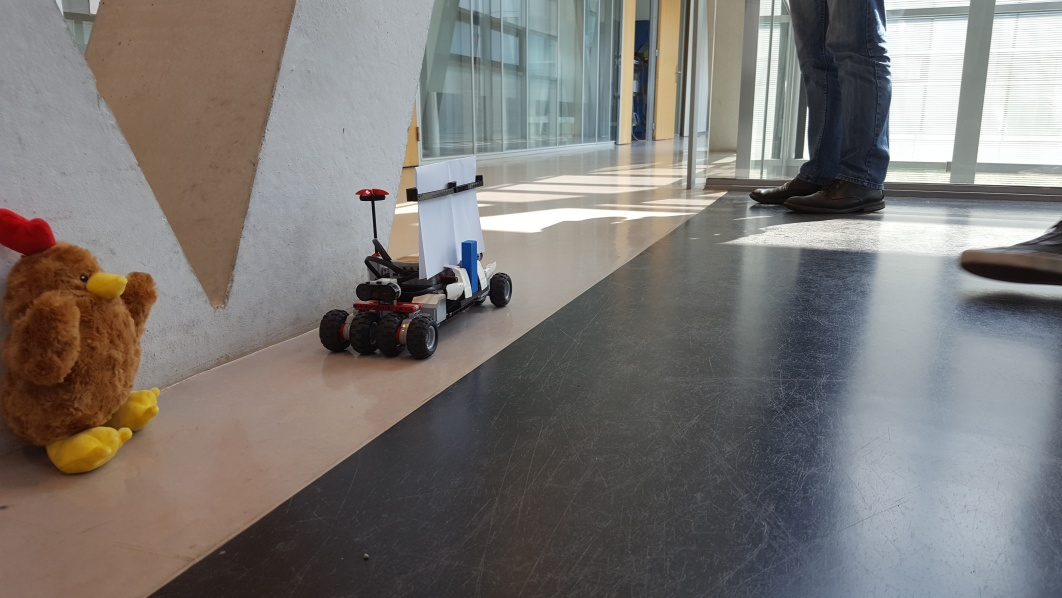beam: (459, 237, 480, 296)
chicken: (4, 202, 165, 478)
